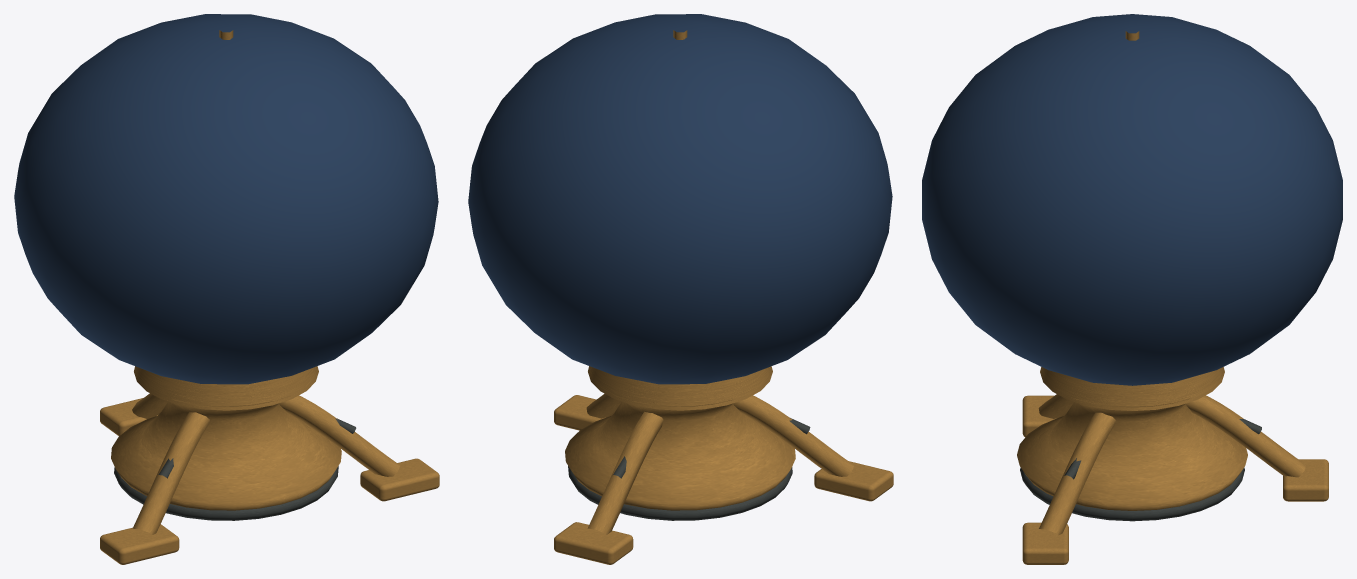
Rendered from crystal_orb.glb.
The picture shows the model from 3 angles, left to right: view 1: azimuth 30°, elevation 25°; view 2: azimuth 150°, elevation 25°; view 3: azimuth 270°, elevation 25°; orthographic projection.
Parts seen in each view (by area): view 1: crystal_orb; view 2: crystal_orb; view 3: crystal_orb.
Part boxes in pixels (x1,y1,x2,y2): crystal_orb: (14,14,439,564); crystal_orb: (468,14,893,564); crystal_orb: (922,14,1342,564).
Bounding box in the file's own units: 1 × 1.2 × 1.
Materials: 1 (1 with a texture image).
